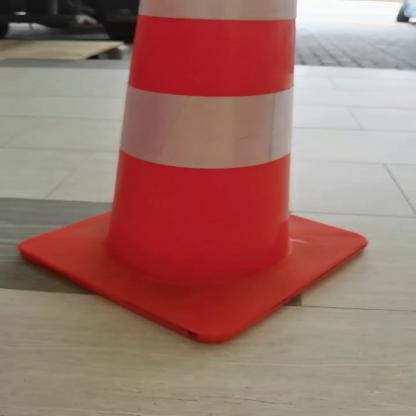cone: (10, 0, 380, 347)
